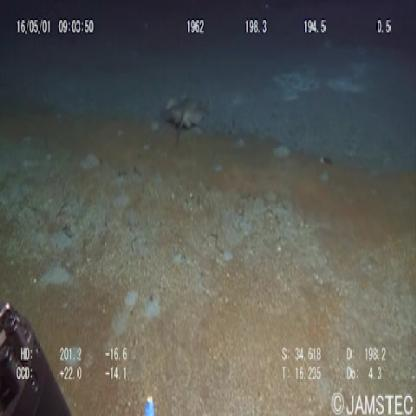Bio: (164, 93, 210, 157)
Rov: (1, 299, 71, 416)
